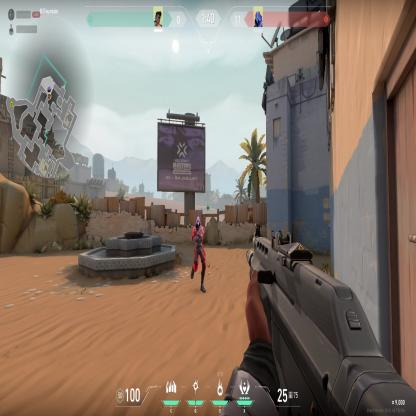enemy: (190, 214, 207, 295)
